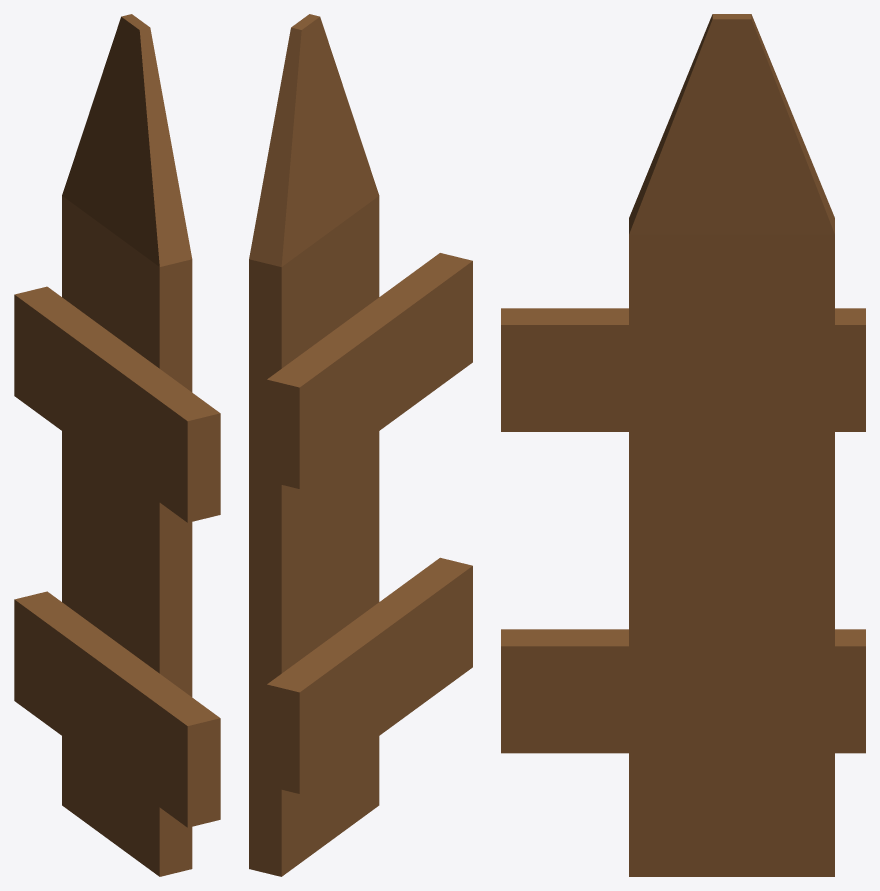
The model's file is fence.glb.
3 renders of one model, left to right at view 1: azimuth 30°, elevation 25°; view 2: azimuth 150°, elevation 25°; view 3: azimuth 270°, elevation 25°, orthographic. The views are drawn at different scales.
Parts seen in each view (by area): view 1: Cube.001; view 2: Cube.001; view 3: Cube.001.
Boxes of the visible parts, x1,y1,x2,y2 form: Cube.001: (14,14,220,876); Cube.001: (249,14,472,876); Cube.001: (501,14,865,876).
Bounding box in the file's own units: 0.3676 × 4.37 × 1.69.
